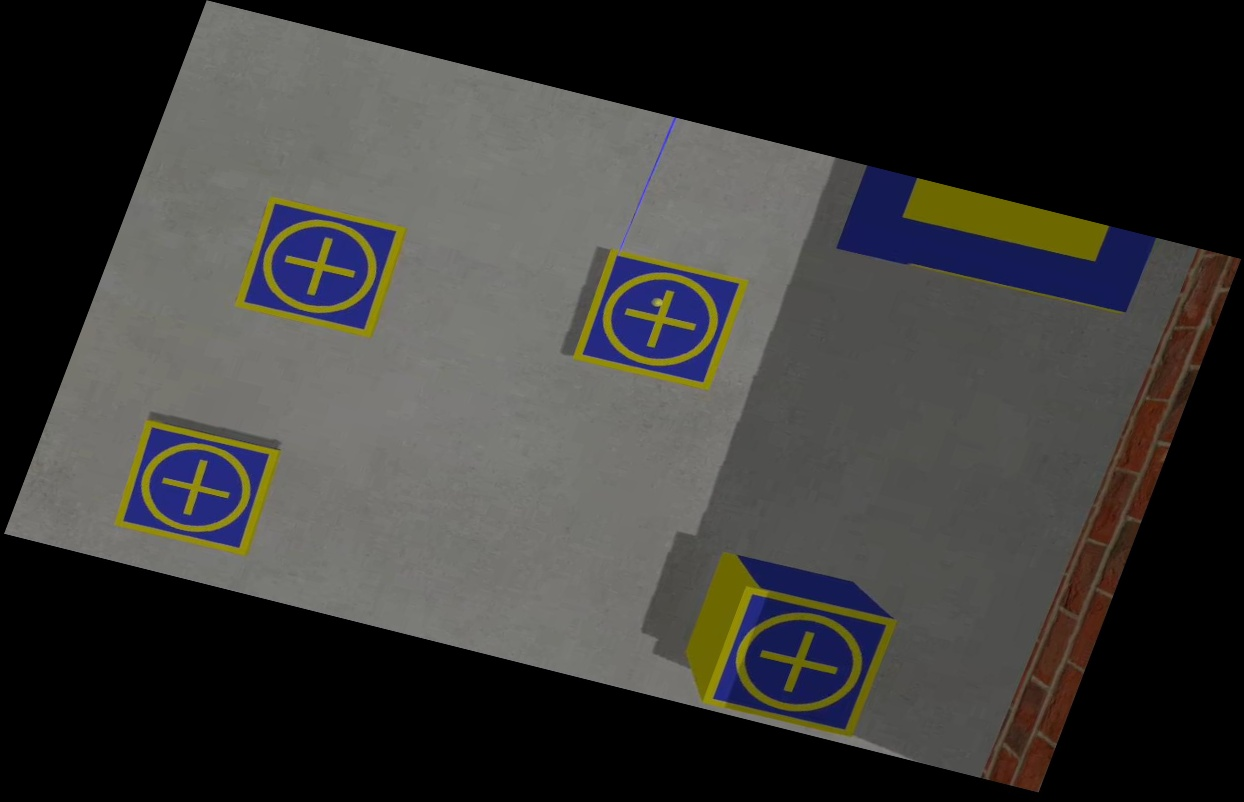large_base: (836, 166, 1156, 322)
small_base: (699, 579, 903, 743), (224, 190, 414, 341), (568, 247, 750, 396), (107, 416, 288, 558)
